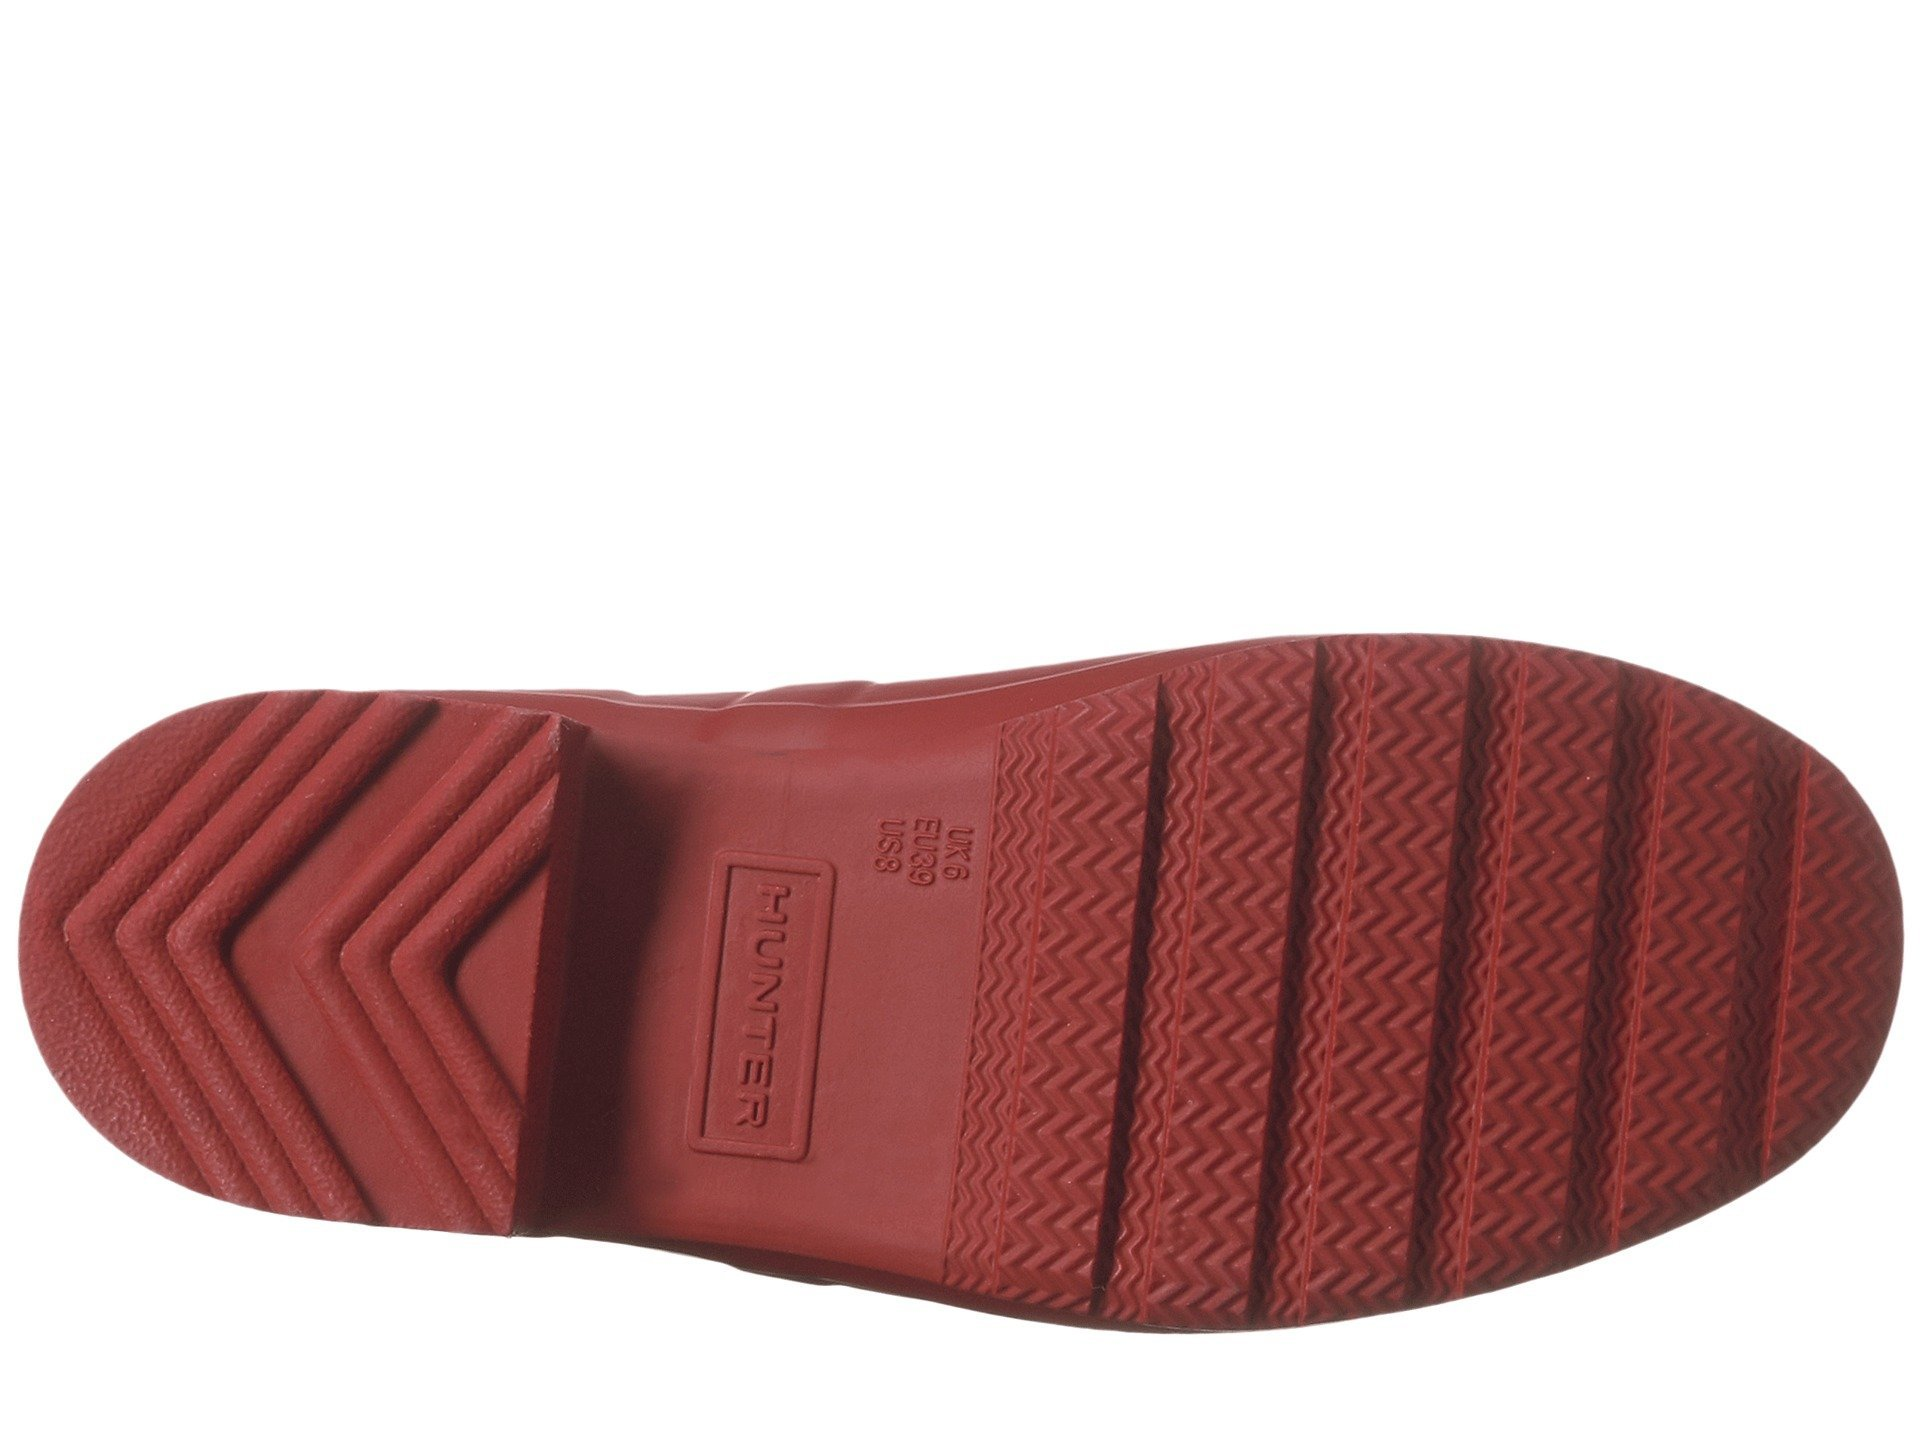chevron: (1052, 725, 1788, 1187), (113, 777, 502, 1190)
